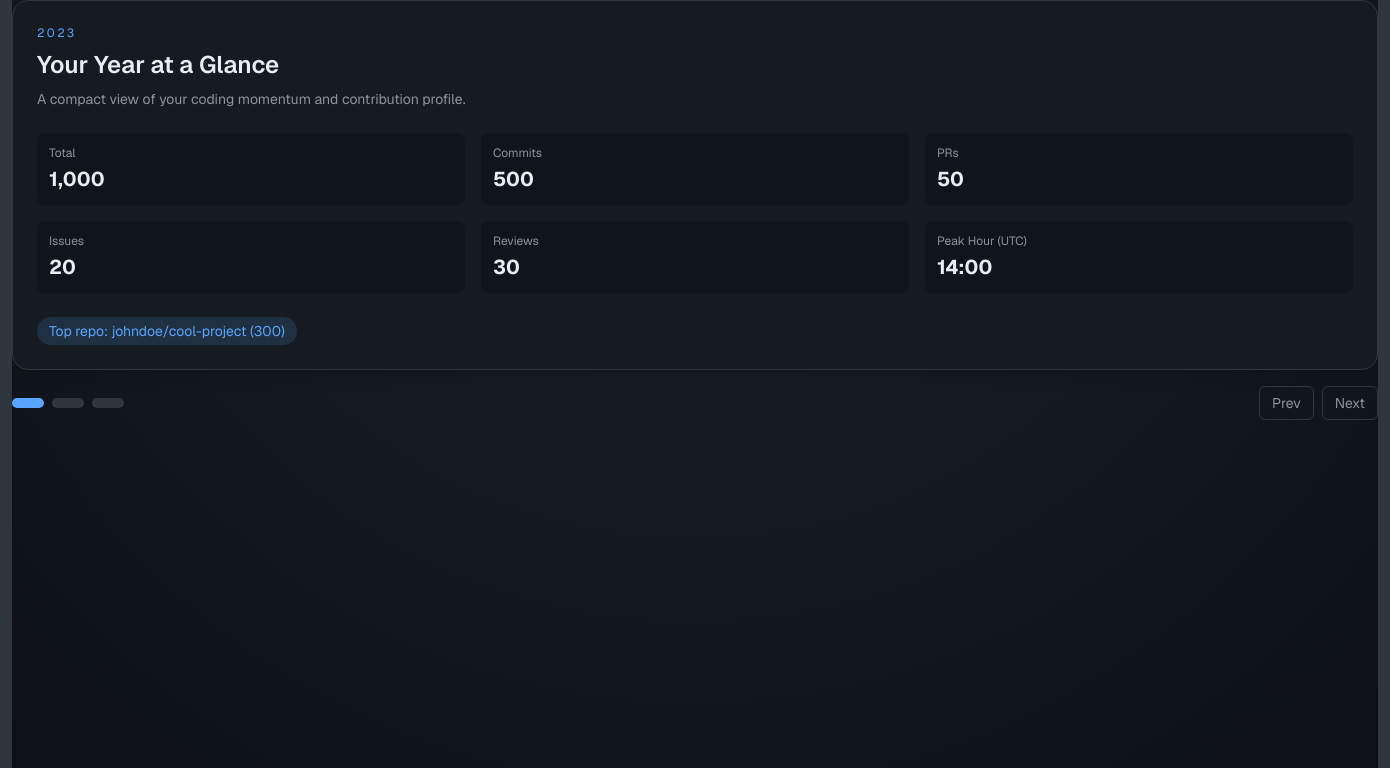
YearInReviewCarousel › does not stringify null mostActiveDay in the rhythm caption
The width and height of the screenshot is (1390, 768).
Click the button "Prev" at (1286, 403), box [1259,386,1314,420]
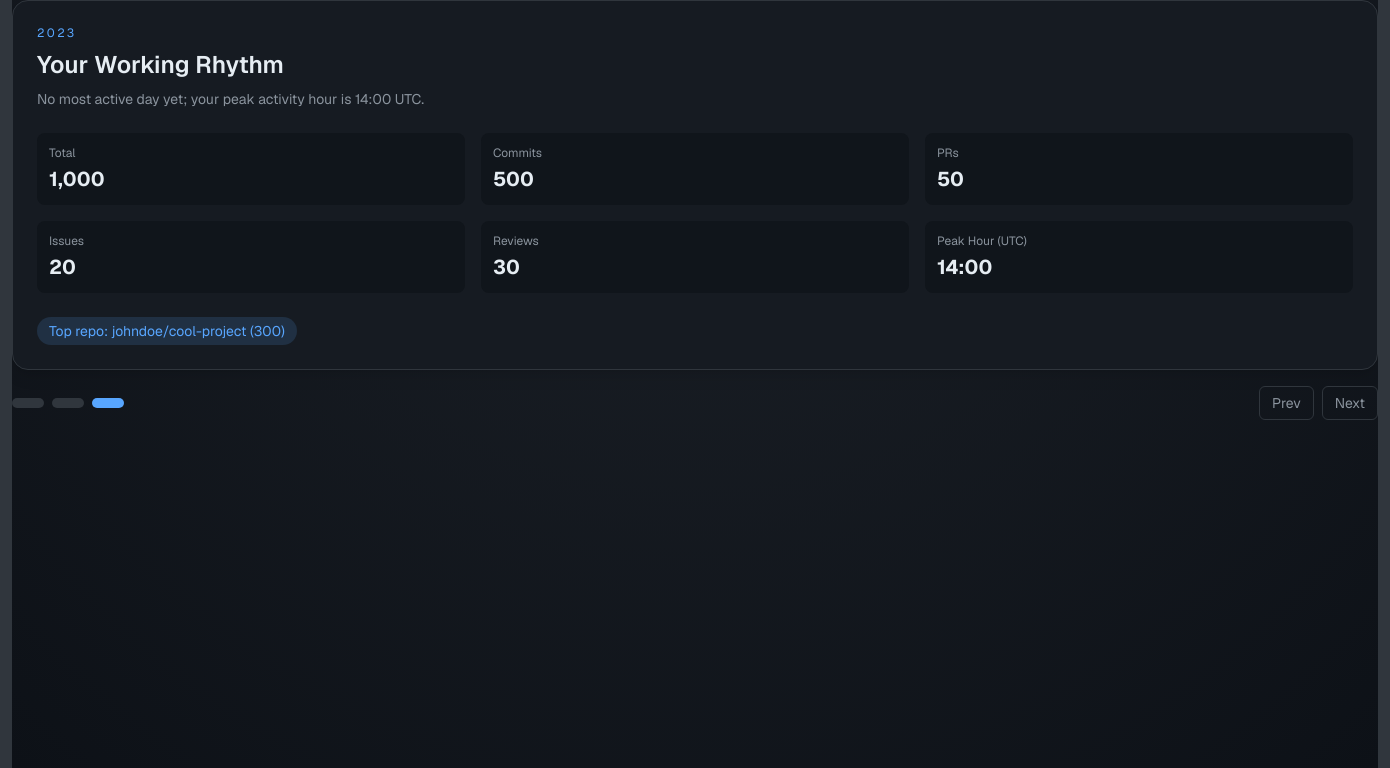
Result: the text "No most active day yet; your peak activity hour is 14:00 UTC." is shown at [37,90,424,108]
